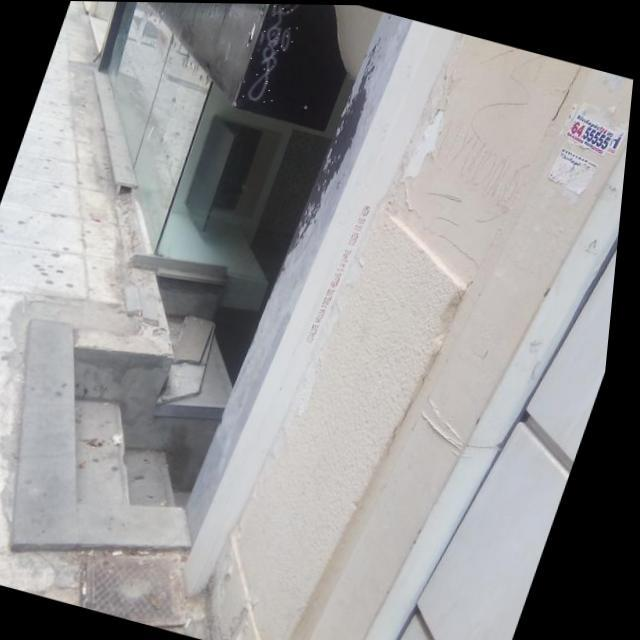-: (237, 2, 308, 106)
